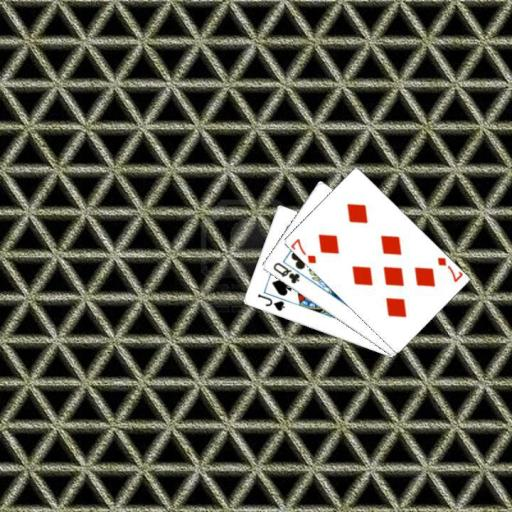7D: (288, 236, 317, 266), (434, 254, 463, 284)
JS: (254, 291, 286, 312)
QC: (270, 259, 302, 285)
